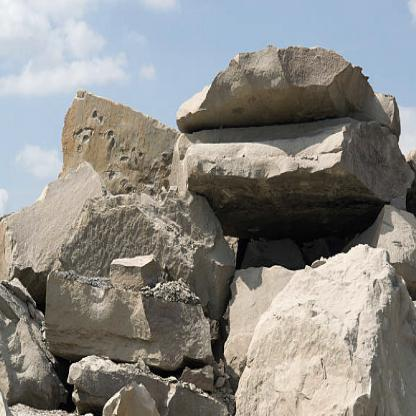Sedimentary_Limestone: (230, 251, 416, 415), (175, 131, 415, 244), (39, 253, 219, 381), (176, 33, 400, 122), (66, 354, 175, 415)
